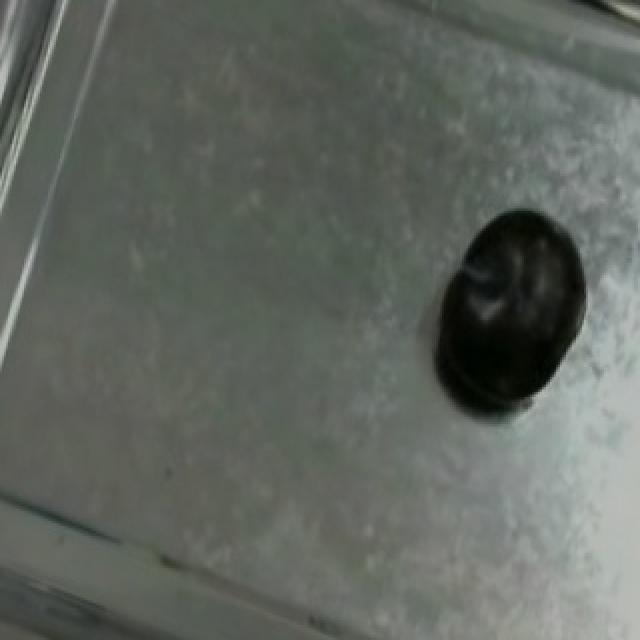Fruit: (426, 186, 608, 417)
